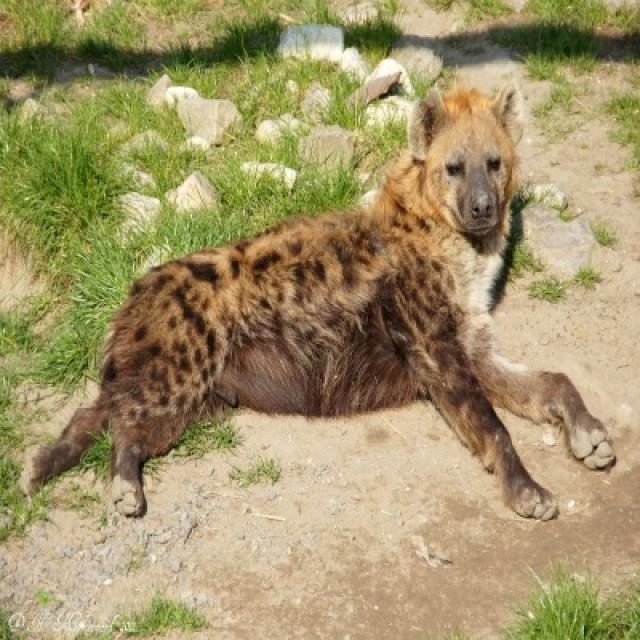hyena: (19, 85, 618, 523)
